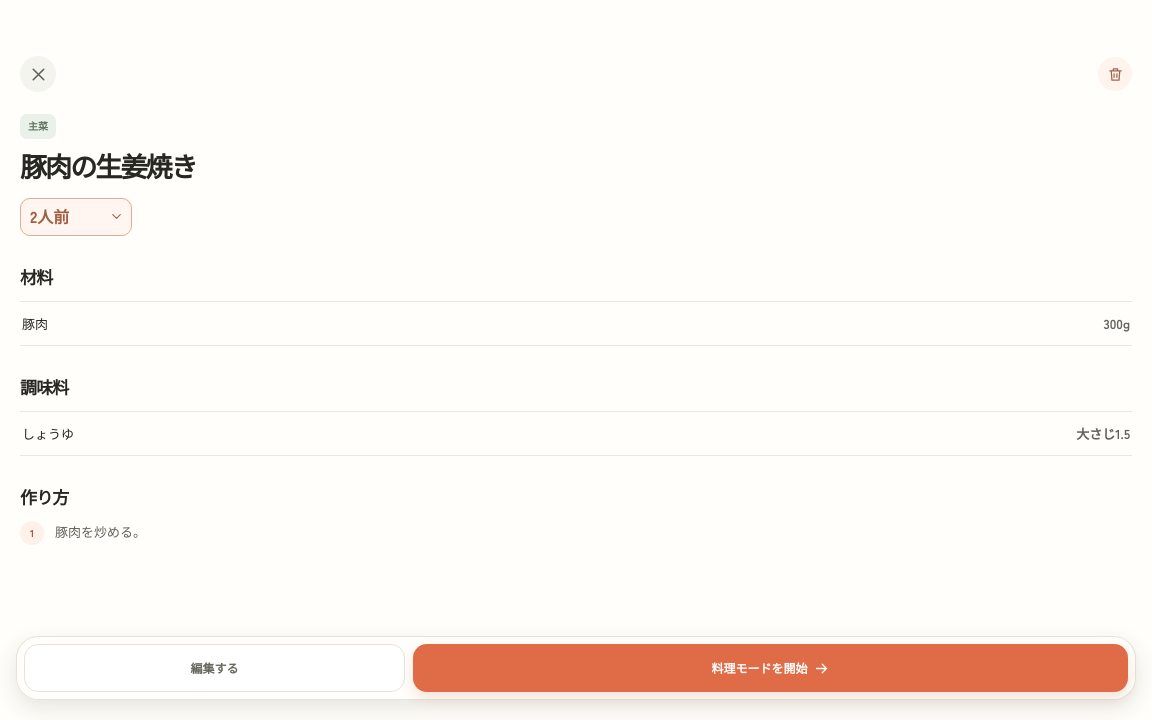
Test: RecipeDetail deletion › refuses a recipe whose owner differs from the signed-in user
Click the button named "レシピを削除" at coordinates (1115, 74), box [1098,57,1132,91]
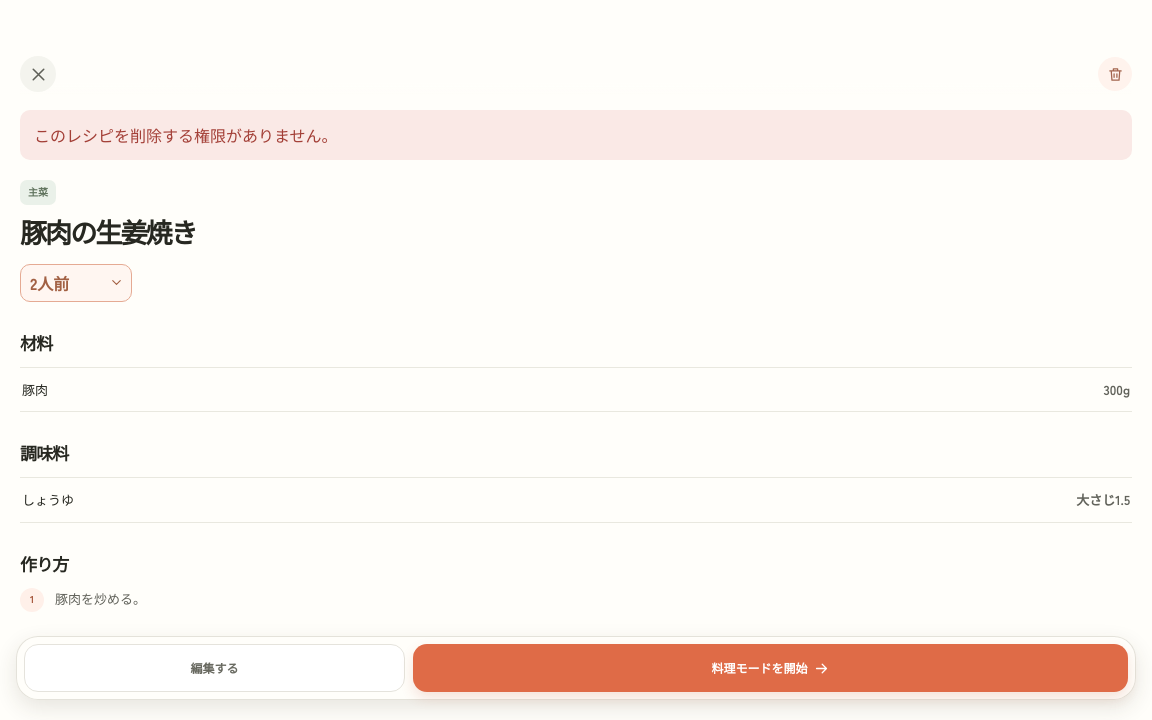
Check: the message shows "削除する権限がありません", box [34,123,338,147]
